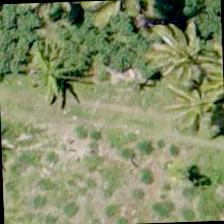Kelapa_Sawit: (142, 5, 224, 98), (152, 60, 223, 153)
